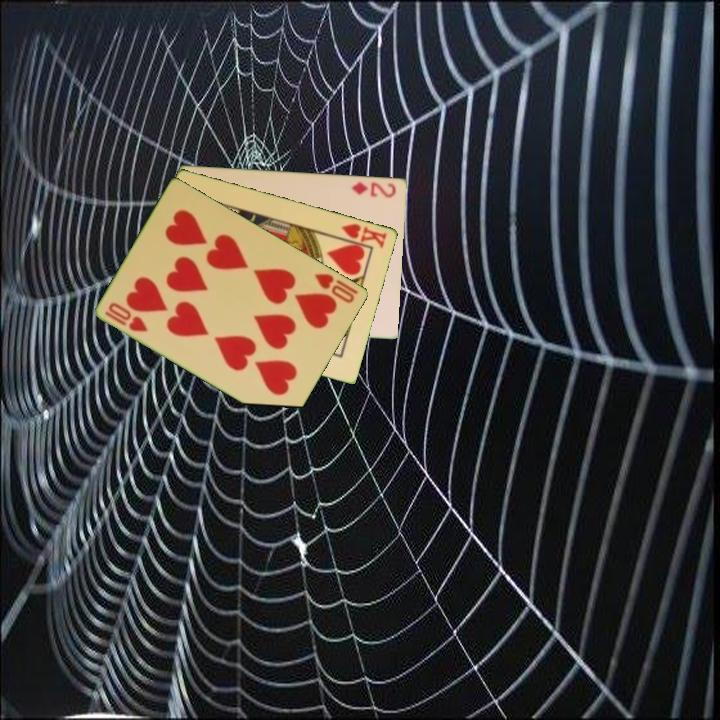10h: (102, 298, 151, 335), (311, 270, 361, 306)
2d: (348, 178, 399, 200)
Kh: (332, 220, 390, 251)
